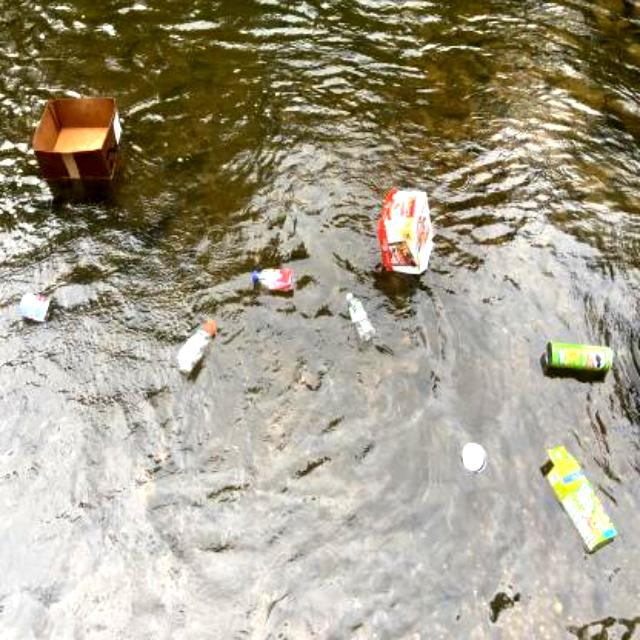Cardboard: (536, 444, 618, 556), (30, 94, 126, 186), (374, 184, 434, 278)
Metal: (537, 341, 615, 379), (17, 289, 55, 327)
Paper: (458, 441, 488, 479)
Plastic: (171, 316, 221, 382), (342, 286, 378, 350), (250, 264, 296, 296)
